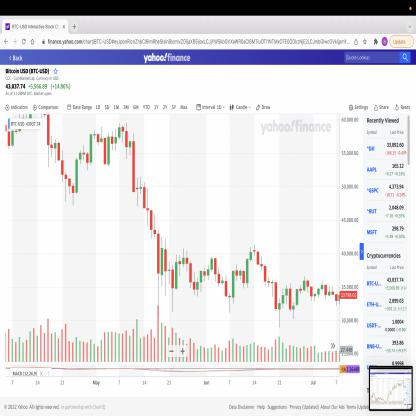Bearish: Evening Star Doji: (249, 242, 260, 268)
Bullish: Hammer: (224, 268, 235, 315)
